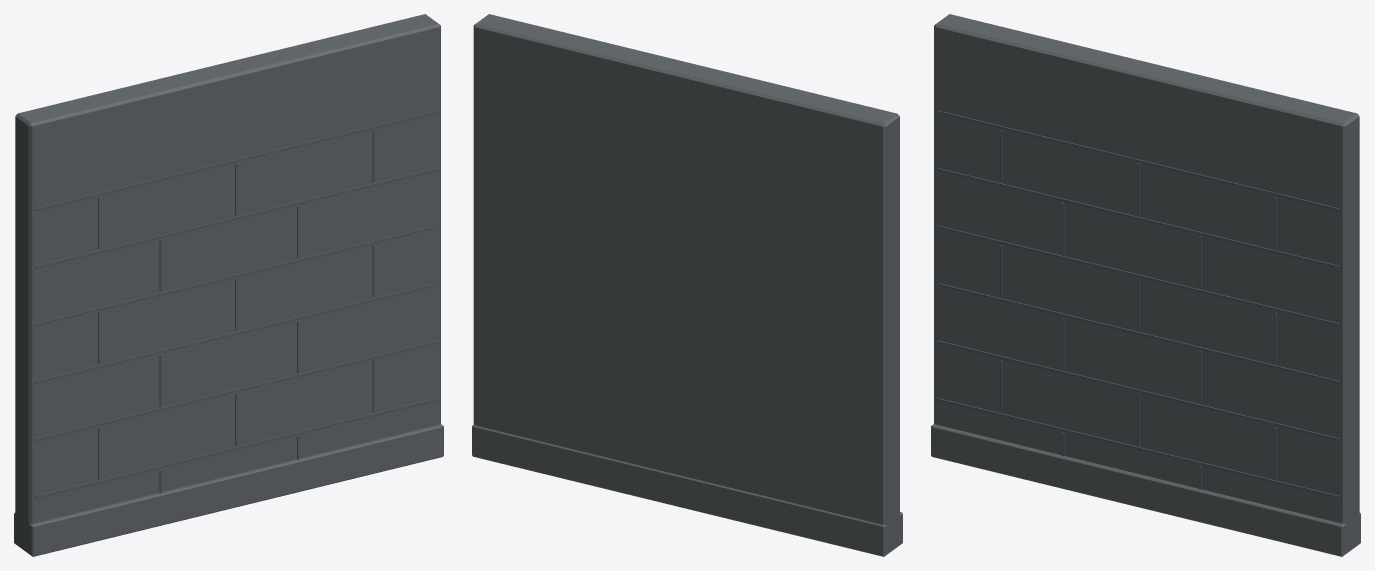
File: environment_wall_brick_model.glb
3 views of the same model, side by side, from view 1: azimuth 30°, elevation 25°; view 2: azimuth 150°, elevation 25°; view 3: azimuth 330°, elevation 25° (orthographic).
Visible parts, largest first — view 1: BH_Wall_Brick_RenderMesh; view 2: BH_Wall_Brick_RenderMesh; view 3: BH_Wall_Brick_RenderMesh.
Boxes of the visible parts, x1,y1,x2,y2 form: BH_Wall_Brick_RenderMesh: [14, 14, 443, 556]; BH_Wall_Brick_RenderMesh: [472, 14, 902, 556]; BH_Wall_Brick_RenderMesh: [931, 14, 1360, 556].
Size of what is drawn, in the model's own units: 3 by 3 by 0.24.
